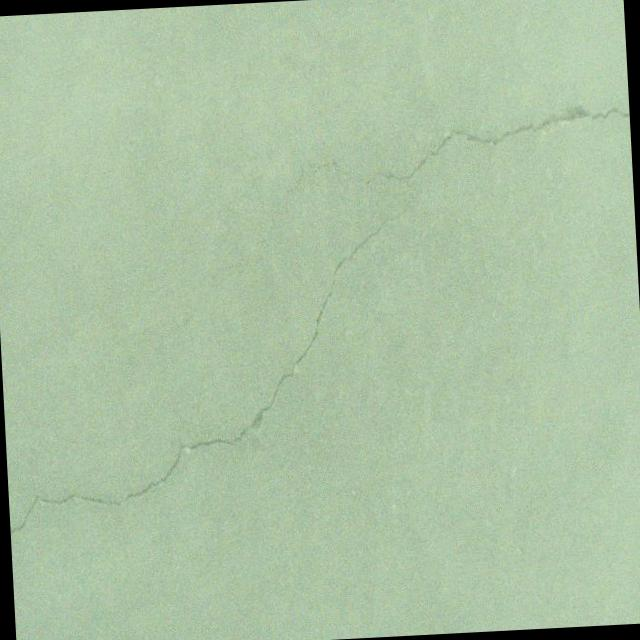crack: (0, 205, 457, 534), (168, 101, 640, 328)
